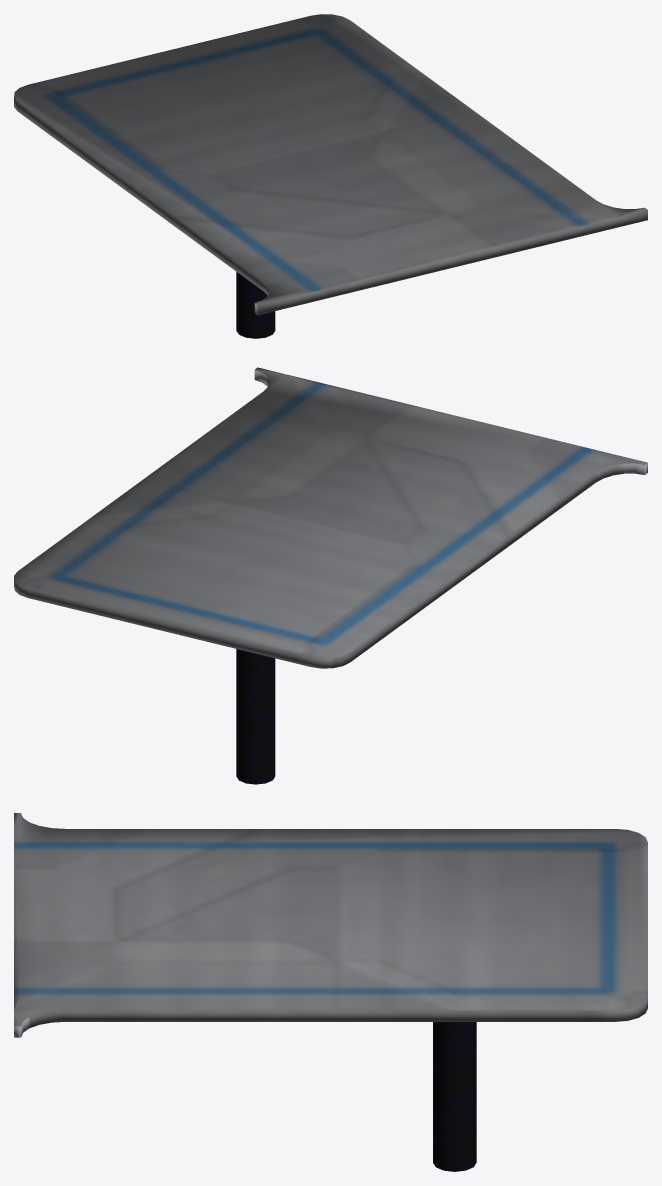
File: table_1.glb
3 views of the same model, one above another, from view 1: azimuth 30°, elevation 25°; view 2: azimuth 150°, elevation 25°; view 3: azimuth 270°, elevation 25° (orthographic). The views are drawn at different scales.
Visible parts, largest first — view 1: Table; view 2: Table; view 3: Table.
Part boxes in pixels (x1,y1,x2,y2): Table: (14,14,647,338); Table: (14,367,647,784); Table: (14,813,647,1171).
Size of the model in its own units: 1.62 by 0.8596 by 2.03.
Materials: 1 (1 with a texture image).
